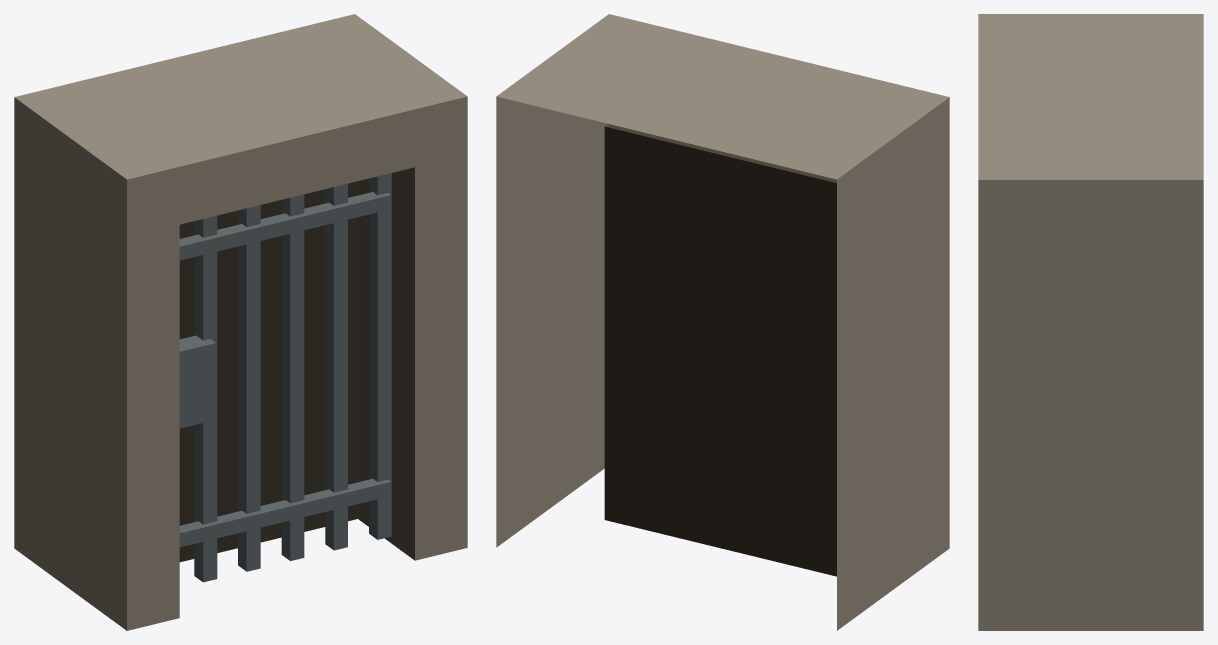
Rendered from SF_Bld_Castle_SmallDoor_01.fbx.
3 views of the same model, side by side, from view 1: azimuth 30°, elevation 25°; view 2: azimuth 150°, elevation 25°; view 3: azimuth 270°, elevation 25° (orthographic).
Parts seen in each view (by area): view 1: SF_Bld_Castle_SmallDoor_01; view 2: SF_Bld_Castle_SmallDoor_01; view 3: SF_Bld_Castle_SmallDoor_01.
Part boxes in pixels (left/top/right/bottom): SF_Bld_Castle_SmallDoor_01: left=14, top=14, right=467, bottom=630; SF_Bld_Castle_SmallDoor_01: left=496, top=14, right=949, bottom=630; SF_Bld_Castle_SmallDoor_01: left=978, top=14, right=1203, bottom=630.
Size of the model in its own units: 2.52 by 3.19 by 1.44.
